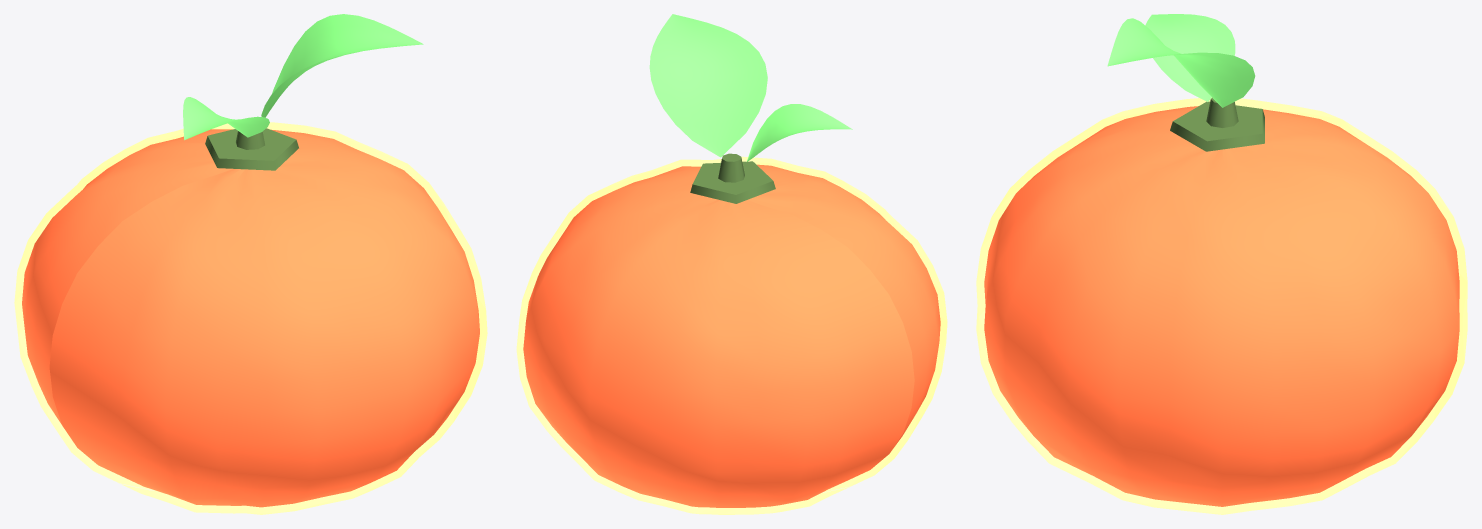
File: pickup_orange.b70c0311.glb
3 views of the same model, side by side, from view 1: azimuth 30°, elevation 25°; view 2: azimuth 150°, elevation 25°; view 3: azimuth 270°, elevation 25° (orthographic). The views are drawn at different scales.
Visible parts, largest first — view 1: pickup_mandarin; view 2: pickup_mandarin; view 3: pickup_mandarin.
Boxes of the visible parts, x1,y1,x2,y2 form: pickup_mandarin: (14, 14, 487, 514); pickup_mandarin: (516, 14, 947, 514); pickup_mandarin: (976, 14, 1467, 514).
Size of the model in its own units: 0.3468 by 0.3586 by 0.3362.
